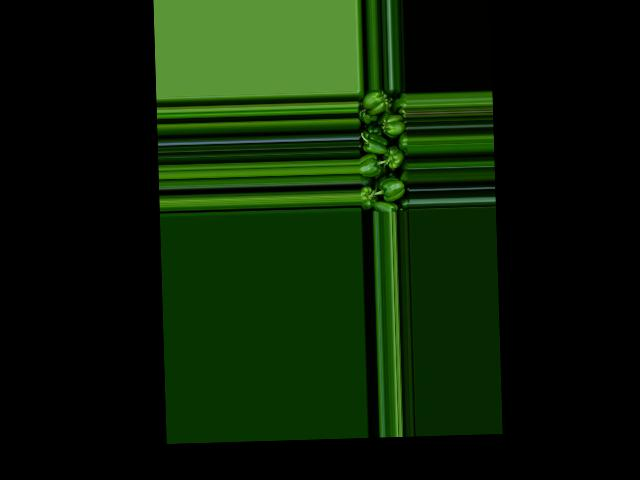bell_pepper: (358, 88, 409, 211)
